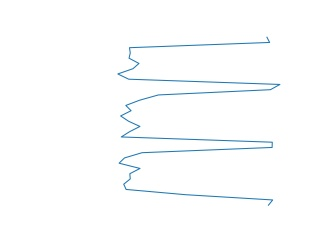majorRiverChannelBar: (115, 35, 283, 209)
